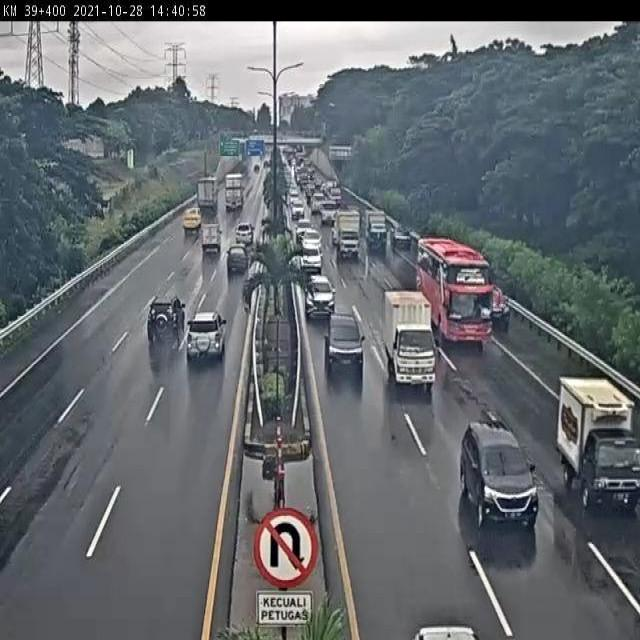bus-l-: (416, 235, 494, 342)
car: (462, 412, 541, 528), (324, 310, 365, 370), (185, 310, 227, 362), (146, 293, 186, 343), (301, 271, 337, 317), (226, 241, 250, 276), (493, 288, 512, 331)
truck-m-: (381, 292, 438, 392)
truck-s-: (555, 381, 640, 508)
